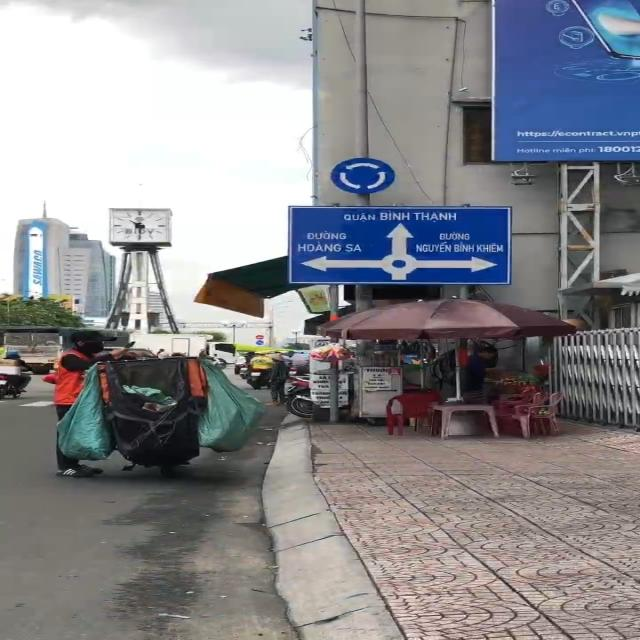Bien bao noi giao nhau chay theo vong xuyen: (331, 154, 402, 196)
